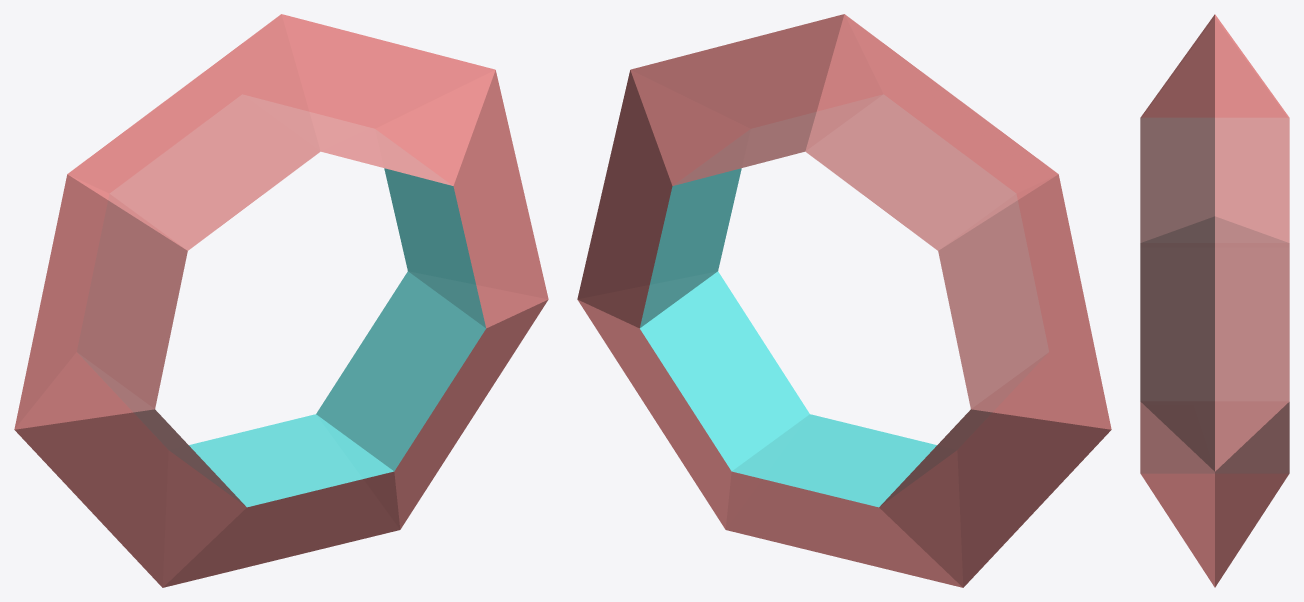
File: Regular7TetragonalToroid.obj
3 views of the same model, side by side, from view 1: azimuth 30°, elevation 25°; view 2: azimuth 150°, elevation 25°; view 3: azimuth 270°, elevation 25° (orthographic). The views are drawn at different scales.
Bounding box in the file's own units: 2.76 × 2.69 × 0.7.
